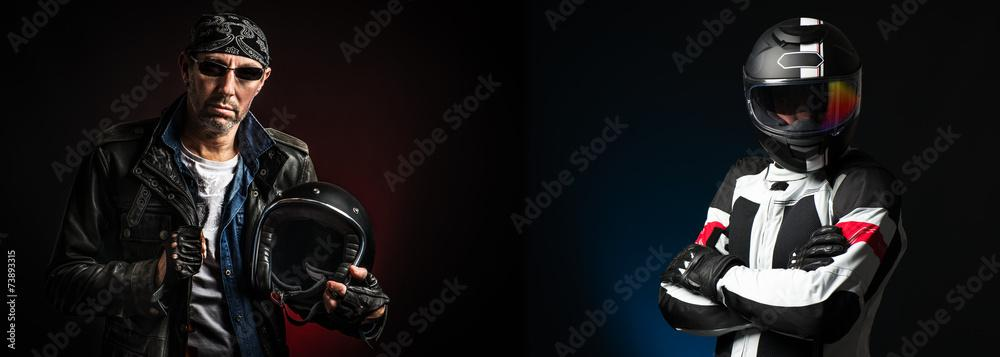helmet: (242, 180, 377, 327), (741, 16, 864, 175)
nohelmet: (176, 10, 273, 139)
